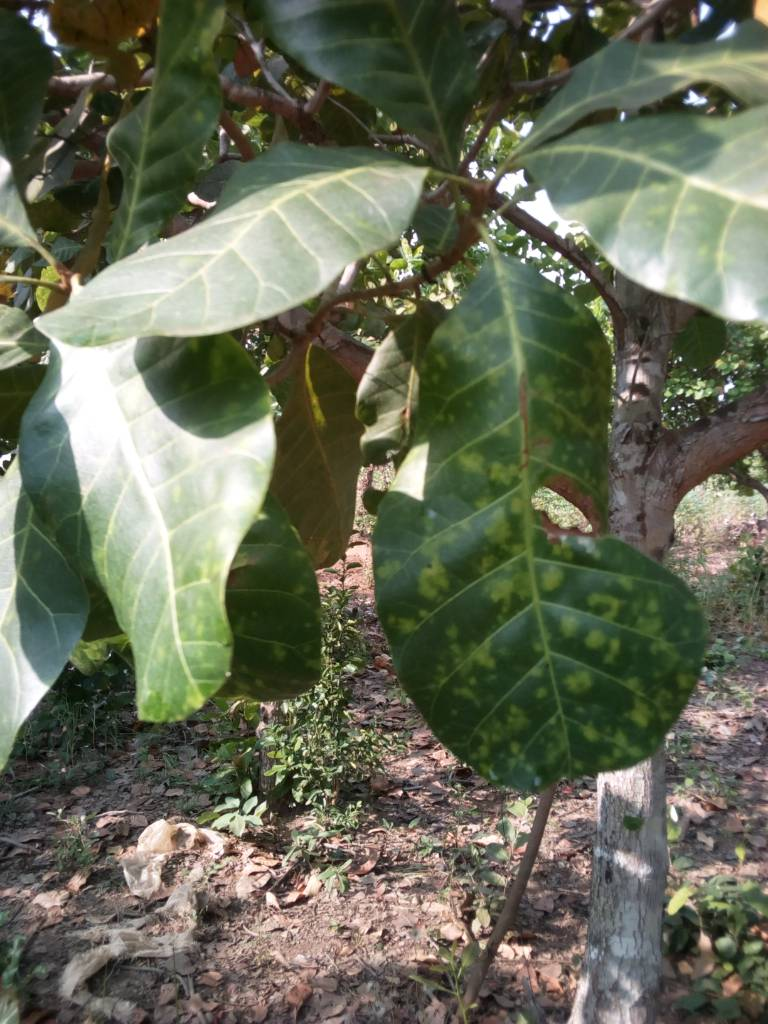Alternariose: (369, 247, 699, 797), (25, 336, 329, 722), (521, 108, 768, 319)
